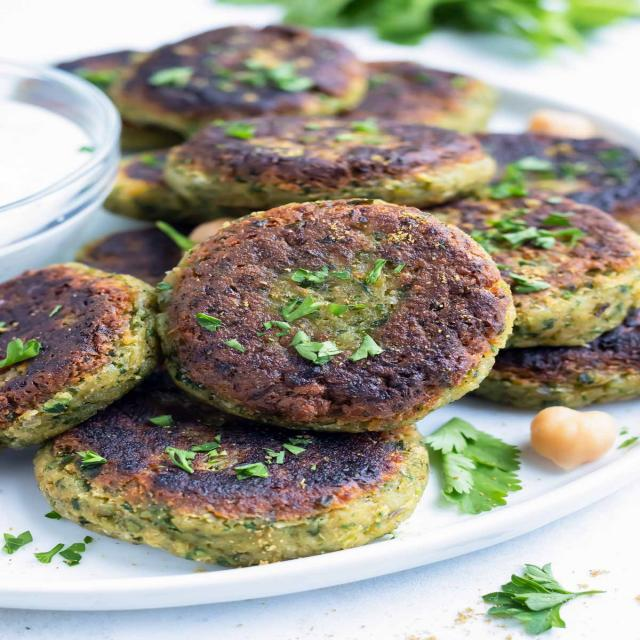flafel: (175, 204, 519, 440), (0, 257, 159, 451), (165, 112, 515, 198)
